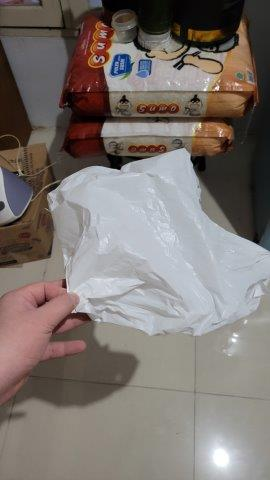plastik: (51, 150, 269, 334)
